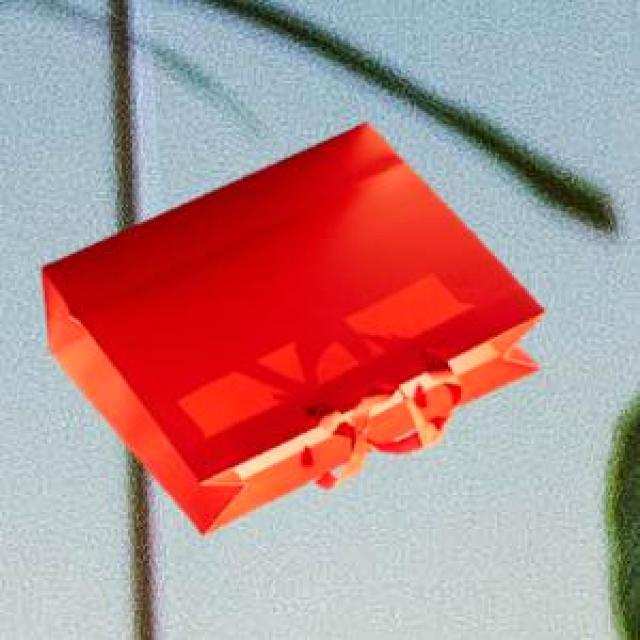Paper_Bag: (39, 120, 541, 532)
